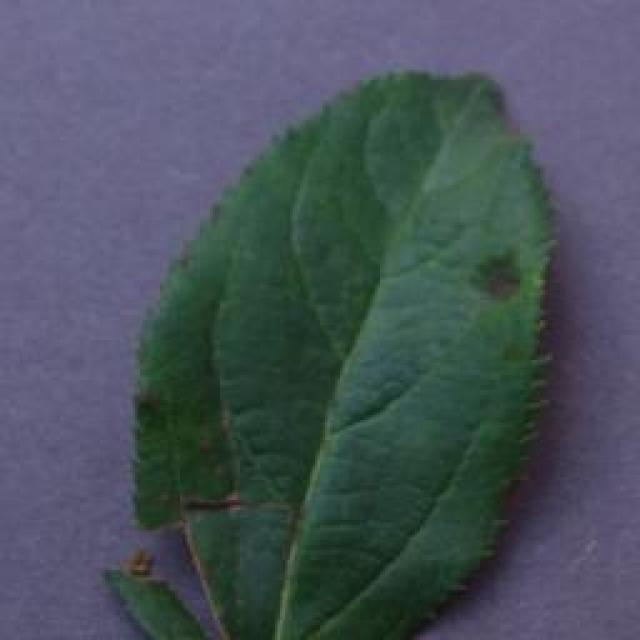apple scab disease: (102, 65, 562, 637)
